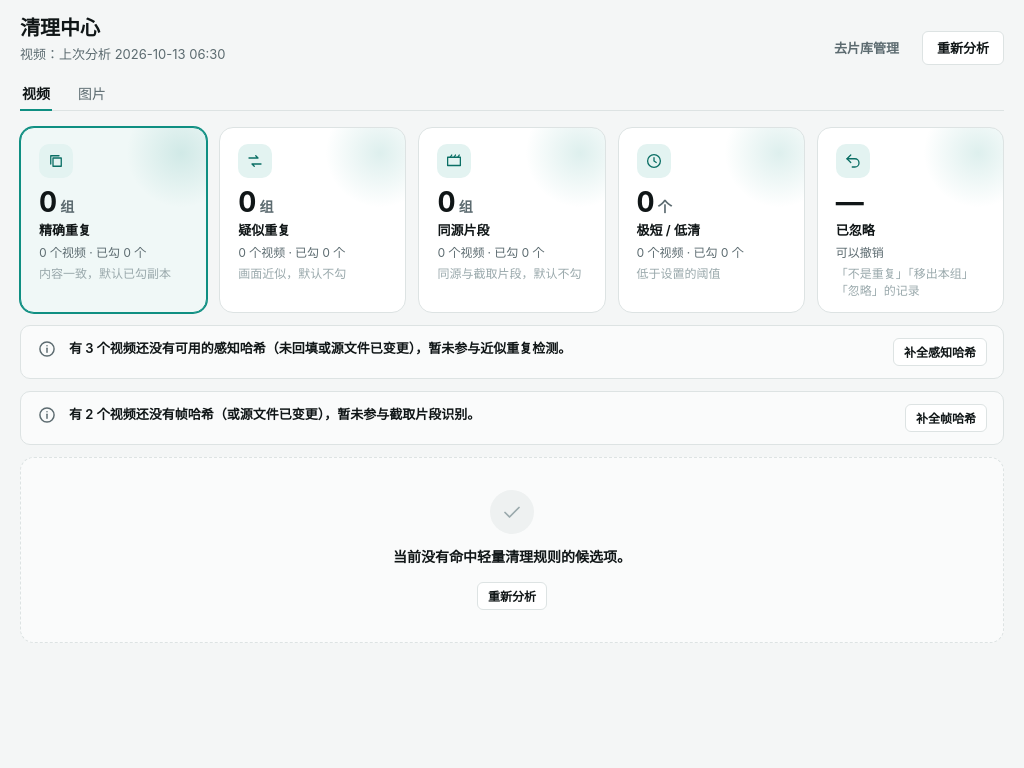
it: 请求与命令落在对应标签（D-P3-02） › 「补全感知哈希 / 帧哈希」由本页发起，运行态交给视频审阅的按钮
Click the button "补全感知哈希".
click(940, 352)  # box [893, 338, 987, 366]
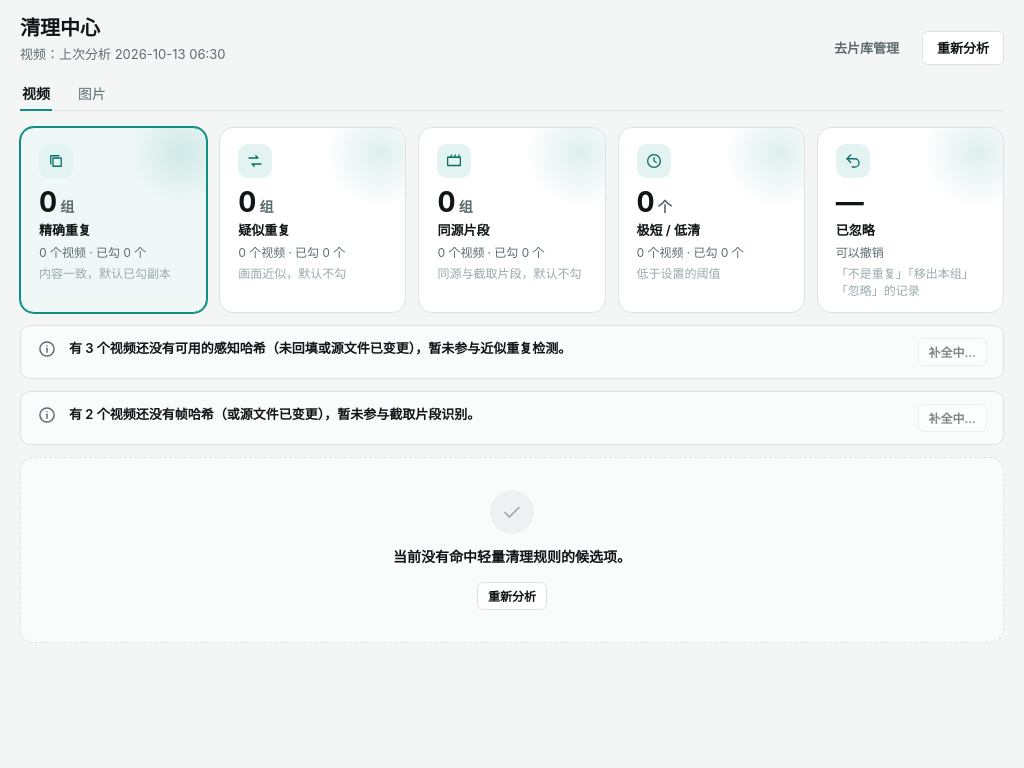
Result: the 1st button "补全中…" is shown at [918, 338, 987, 366]
